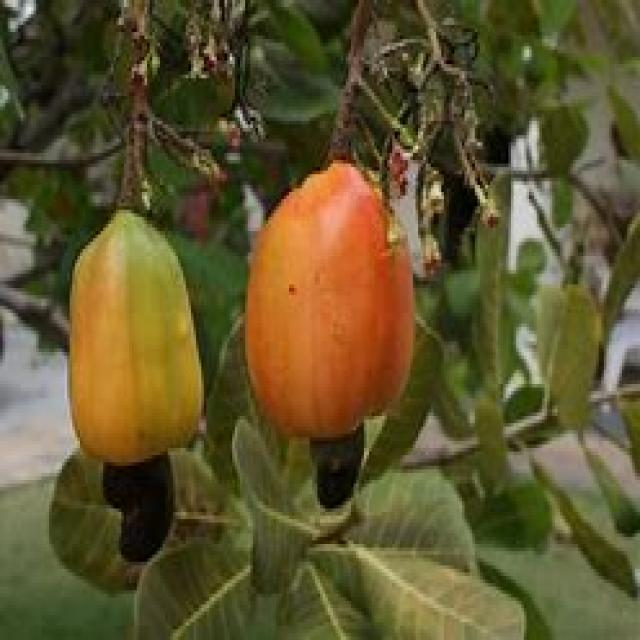Cashew: (293, 420, 379, 530), (107, 442, 173, 560)
